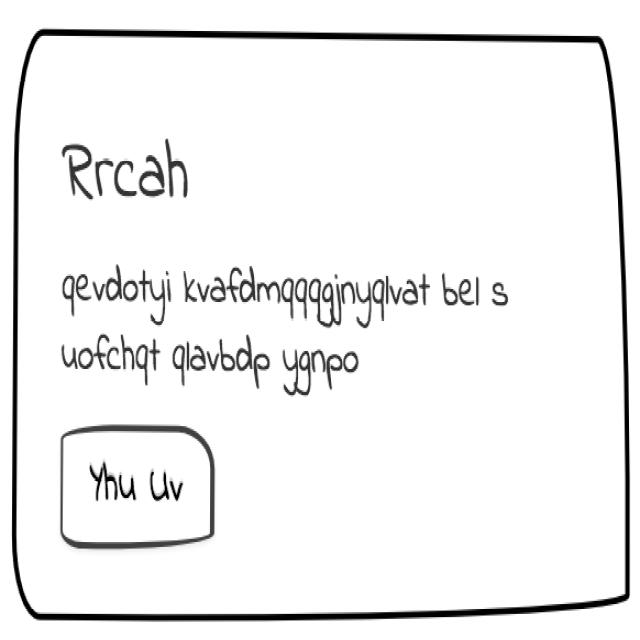Button: (48, 422, 226, 560)
Heading 6: (44, 124, 202, 222)
Paragraph: (52, 259, 524, 408)
